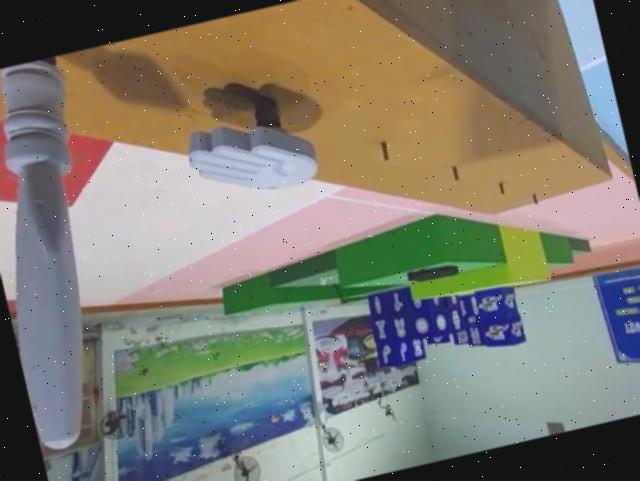Hand: (173, 84, 321, 209)
Sph: (0, 55, 141, 455)
